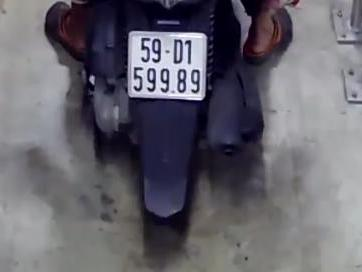num_plate: (128, 30, 206, 101)
